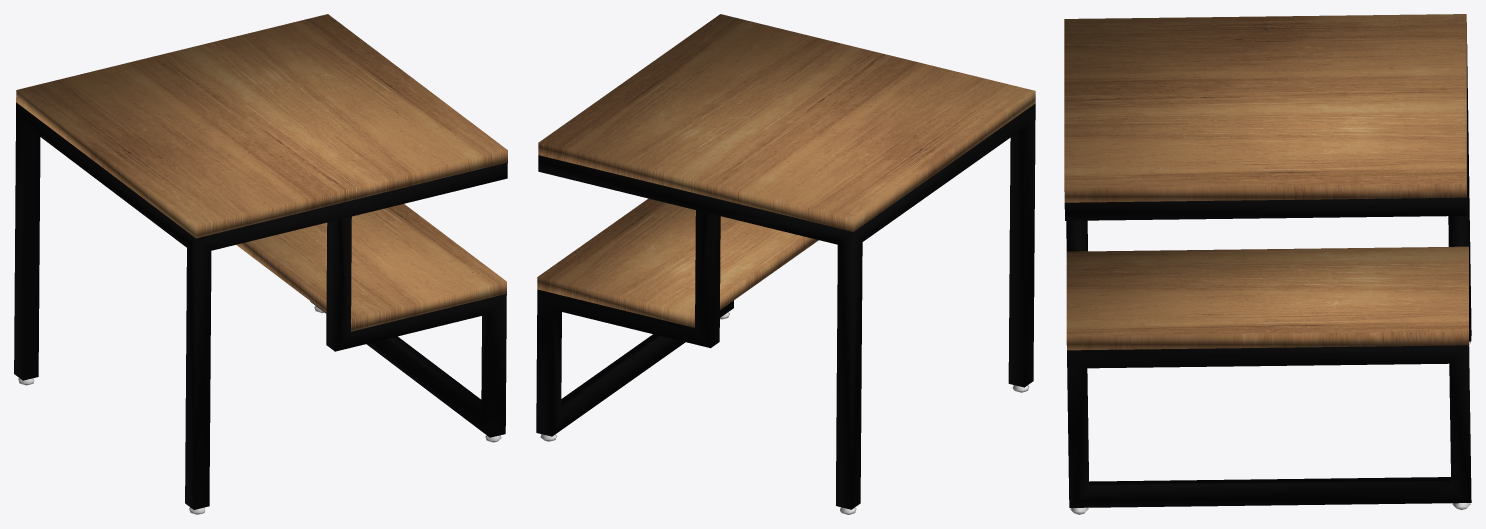
Rendered from GUSossingtonendtable.glb.
3 renders of one model, left to right at view 1: azimuth 30°, elevation 25°; view 2: azimuth 150°, elevation 25°; view 3: azimuth 270°, elevation 25°, orthographic. The views are drawn at different scales.
Parts seen in each view (by area): view 1: GUSossingtonendtable; view 2: GUSossingtonendtable; view 3: GUSossingtonendtable.
Boxes of the visible parts, box(x1,y1,x2,y2) form: GUSossingtonendtable: box(14, 14, 507, 514); GUSossingtonendtable: box(536, 14, 1035, 514); GUSossingtonendtable: box(1064, 14, 1471, 514).
Size of the model in its own units: 50.81 by 46.42 by 51.42.
6 materials, 1 textured.
